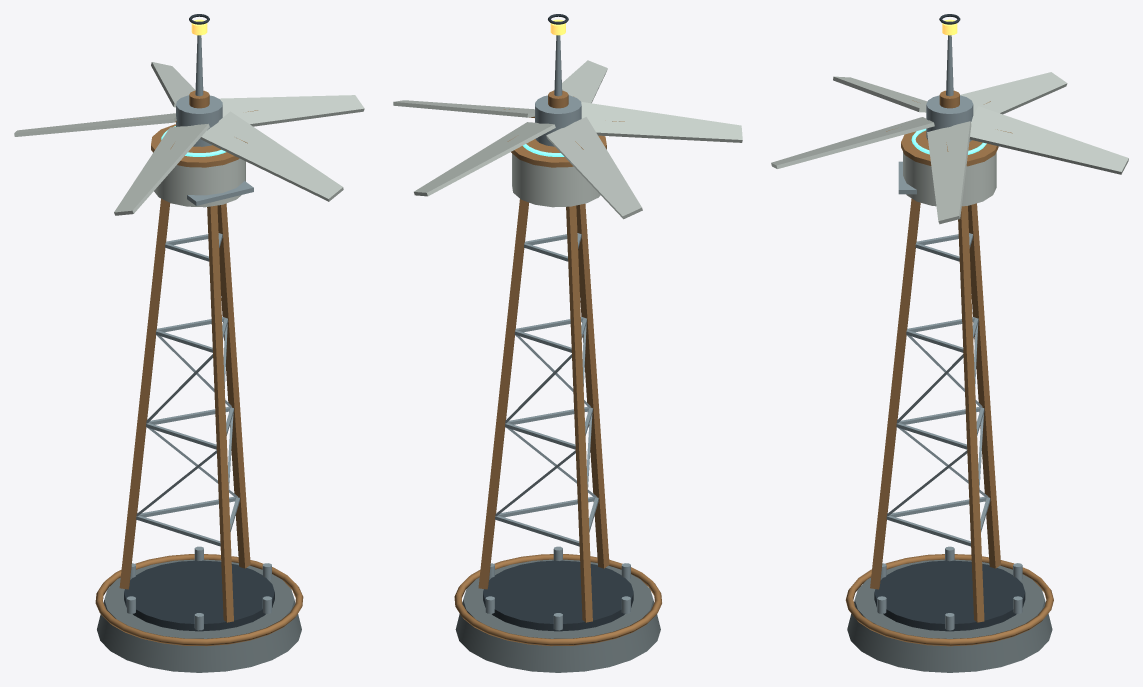
The model's file is tidal-turbine.lod1.glb.
3 renders of one model, left to right at view 1: azimuth 30°, elevation 25°; view 2: azimuth 150°, elevation 25°; view 3: azimuth 270°, elevation 25°, orthographic.
Visible parts, largest first — view 1: structure, turbine_rotor; view 2: structure, turbine_rotor; view 3: structure, turbine_rotor.
Part boxes in pixels (<box>): structure: <box>95,14,303,672</box>; turbine_rotor: <box>14,62,364,215</box>; structure: <box>454,14,661,672</box>; turbine_rotor: <box>393,60,742,219</box>; structure: <box>845,14,1053,672</box>; turbine_rotor: <box>771,72,1128,224</box>.
Bounding box in the file's own units: 11.3 × 22.35 × 11.85.
